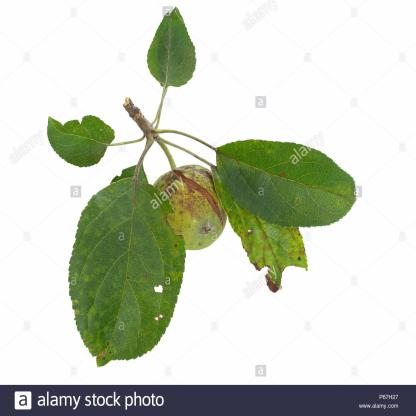Apple Scab Leaf: (66, 171, 187, 377), (214, 128, 371, 231)
